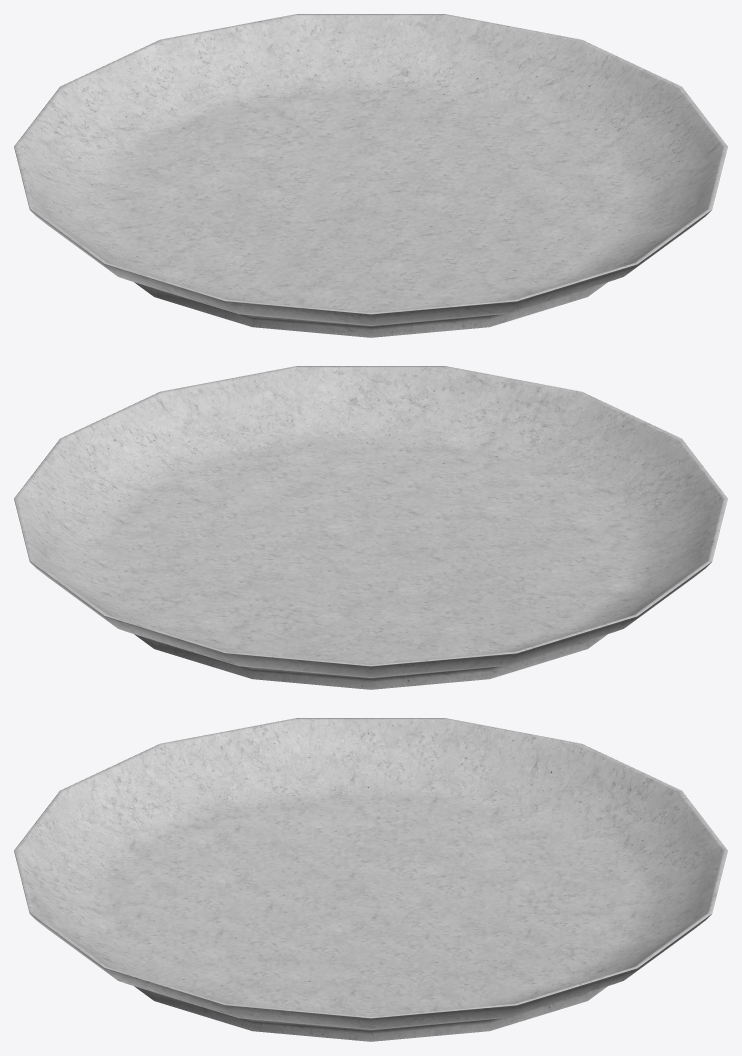
Rendered from Plate_LOD1.FBX.
3 views of the same model, one above another, from view 1: azimuth 30°, elevation 25°; view 2: azimuth 150°, elevation 25°; view 3: azimuth 270°, elevation 25° (orthographic).
Parts seen in each view (by area): view 1: Plate_LOD1; view 2: Plate_LOD1; view 3: Plate_LOD1.
Part boxes in pixels (x1,y1,x2,y2): Plate_LOD1: (14, 14, 727, 337); Plate_LOD1: (14, 366, 727, 689); Plate_LOD1: (14, 718, 727, 1041).
Bounding box in the file's own units: 162 × 13.17 × 163.
